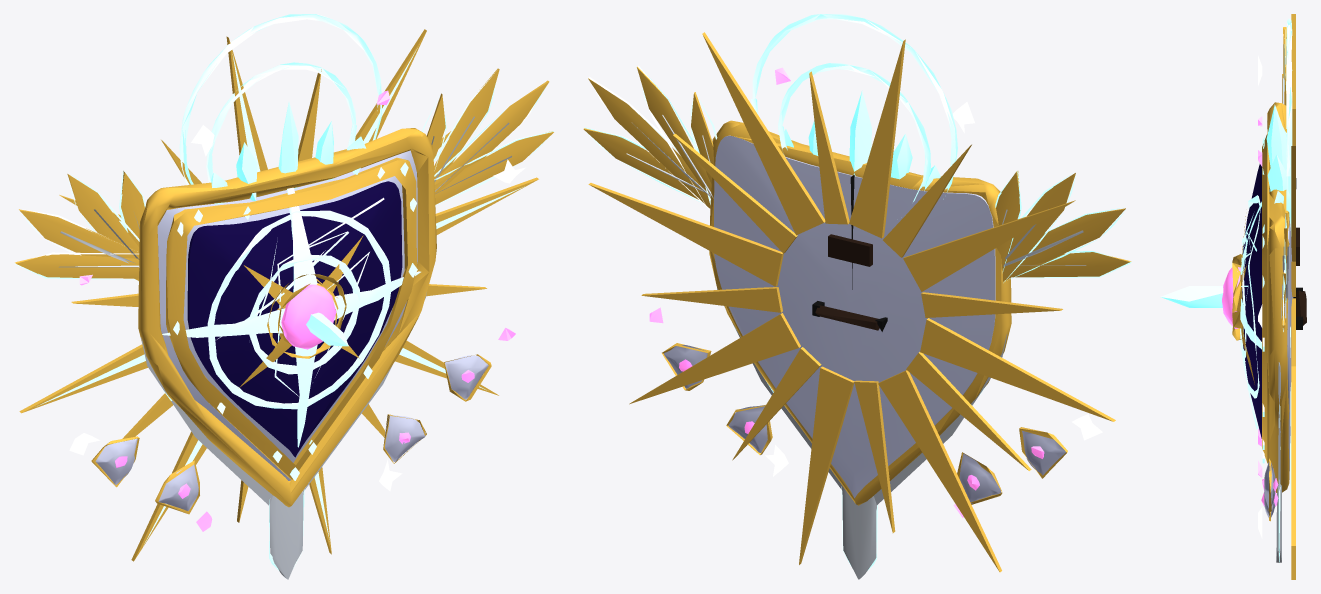
Rendered from defender_greatshield.glb.
3 renders of one model, left to right at view 1: azimuth 30°, elevation 25°; view 2: azimuth 150°, elevation 25°; view 3: azimuth 270°, elevation 25°, orthographic. The views are drawn at different scales.
Visible parts, largest first — view 1: defender_greatshield; view 2: defender_greatshield; view 3: defender_greatshield.
Boxes of the visible parts, <box> form: defender_greatshield: <box>14,14,553,579</box>; defender_greatshield: <box>583,14,1131,579</box>; defender_greatshield: <box>1161,14,1306,579</box>.
Bounding box in the file's own units: 1.83 × 1.81 × 0.4516.
